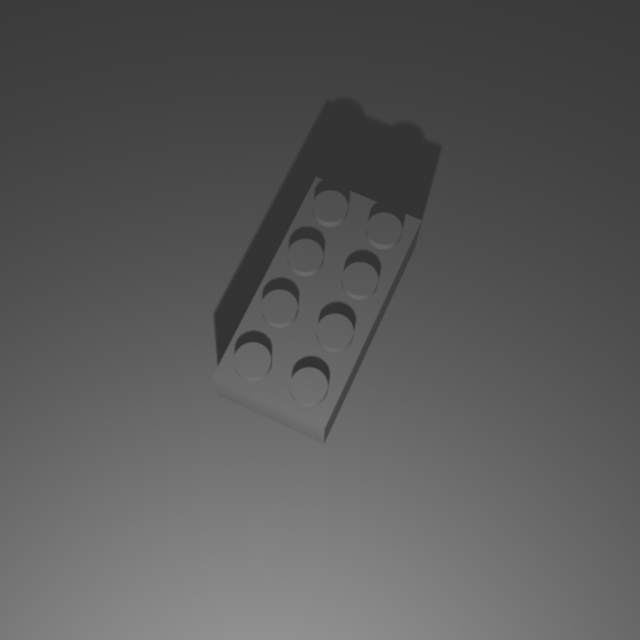lego_2x4: (210, 171, 423, 444)
